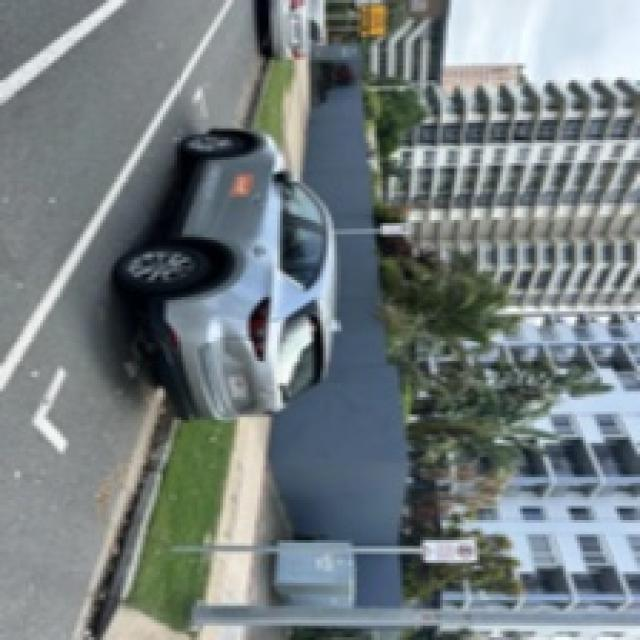car: (141, 117, 334, 437), (264, 1, 342, 67)
